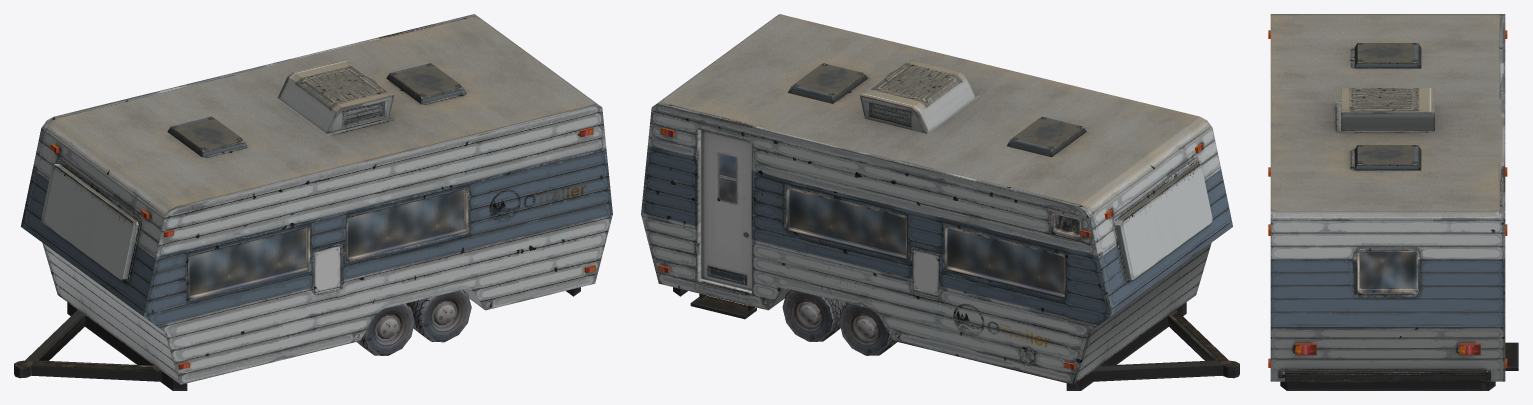
File: trailer.FBX
3 renders of one model, left to right at view 1: azimuth 30°, elevation 25°; view 2: azimuth 150°, elevation 25°; view 3: azimuth 270°, elevation 25°, orthographic. The views are drawn at different scales.
Visible parts, largest first — view 1: trailer, wheelBR004, wheelBR003; view 2: trailer, wheelBR001, wheelBR002; view 3: trailer.
Boxes of the visible parts, x1,y1,x2,y2 form: trailer: [14, 14, 612, 390]; wheelBR004: [407, 289, 471, 342]; wheelBR003: [357, 303, 414, 355]; trailer: [641, 14, 1239, 390]; wheelBR001: [782, 289, 846, 341]; wheelBR002: [839, 303, 896, 355]; trailer: [1268, 14, 1518, 390].
Size of the model in its own units: 393 by 162 by 166.
